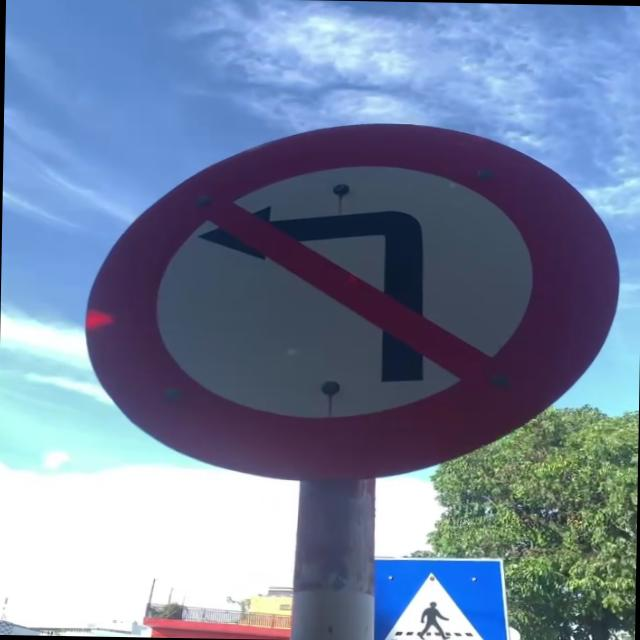Cam_Re_Trai: (82, 114, 621, 494)
